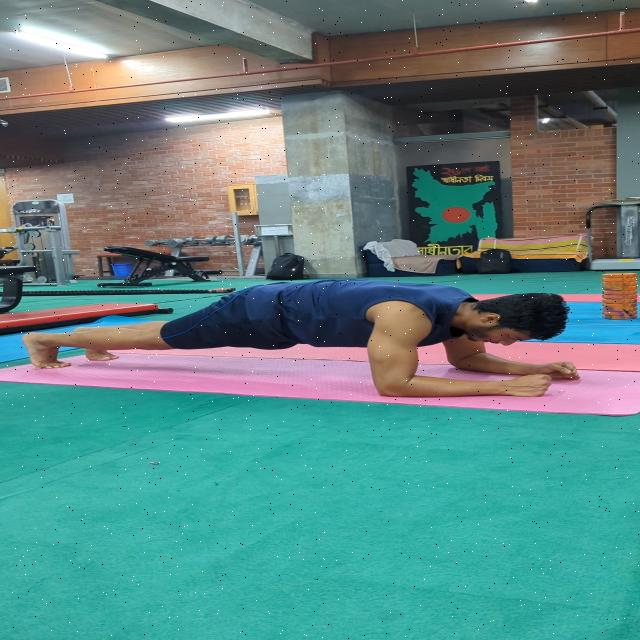Normal_Plunk: (24, 278, 596, 420)
